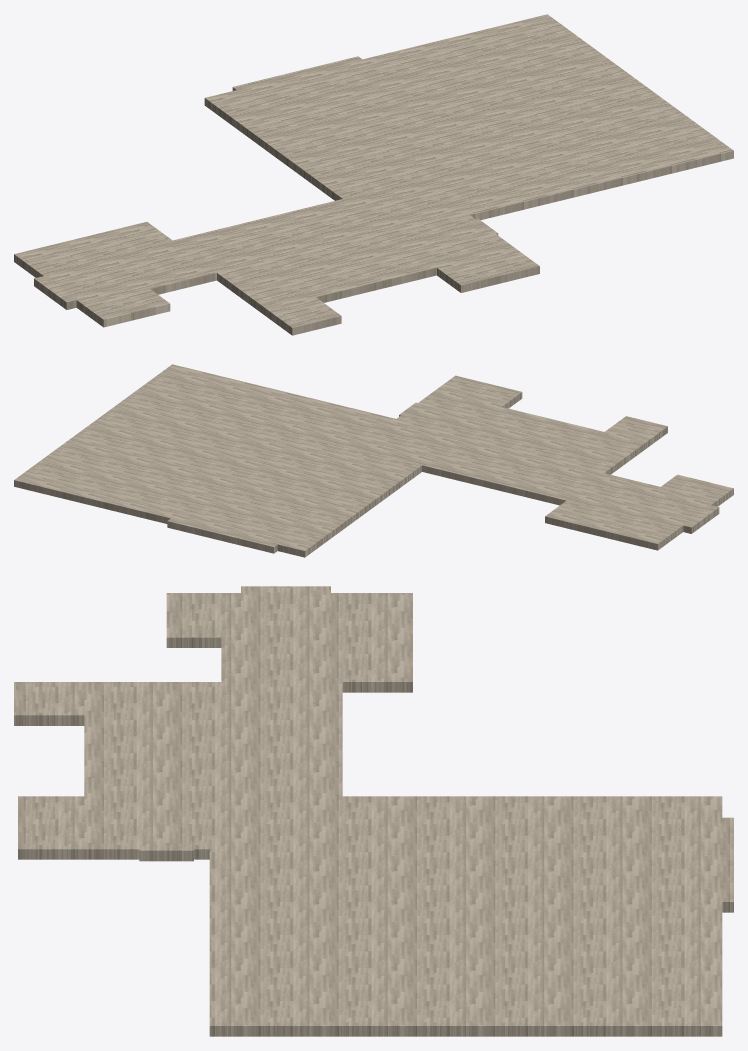
The model's file is 1860_kitchen_Floor_Dollar.gltf.
3 renders of one model, top to bottom at view 1: azimuth 30°, elevation 25°; view 2: azimuth 150°, elevation 25°; view 3: azimuth 270°, elevation 25°, orthographic. The views are drawn at different scales.
Parts seen in each view (by area): view 1: Line23781; view 2: Line23781; view 3: Line23781.
Boxes of the visible parts, x1=… form: Line23781: x1=14, y1=14, x2=733, y2=335; Line23781: x1=14, y1=364, x2=733, y2=557; Line23781: x1=14, y1=586, x2=733, y2=1036.
Bounding box in the file's own units: 26.6 × 0.3 × 18.4.
